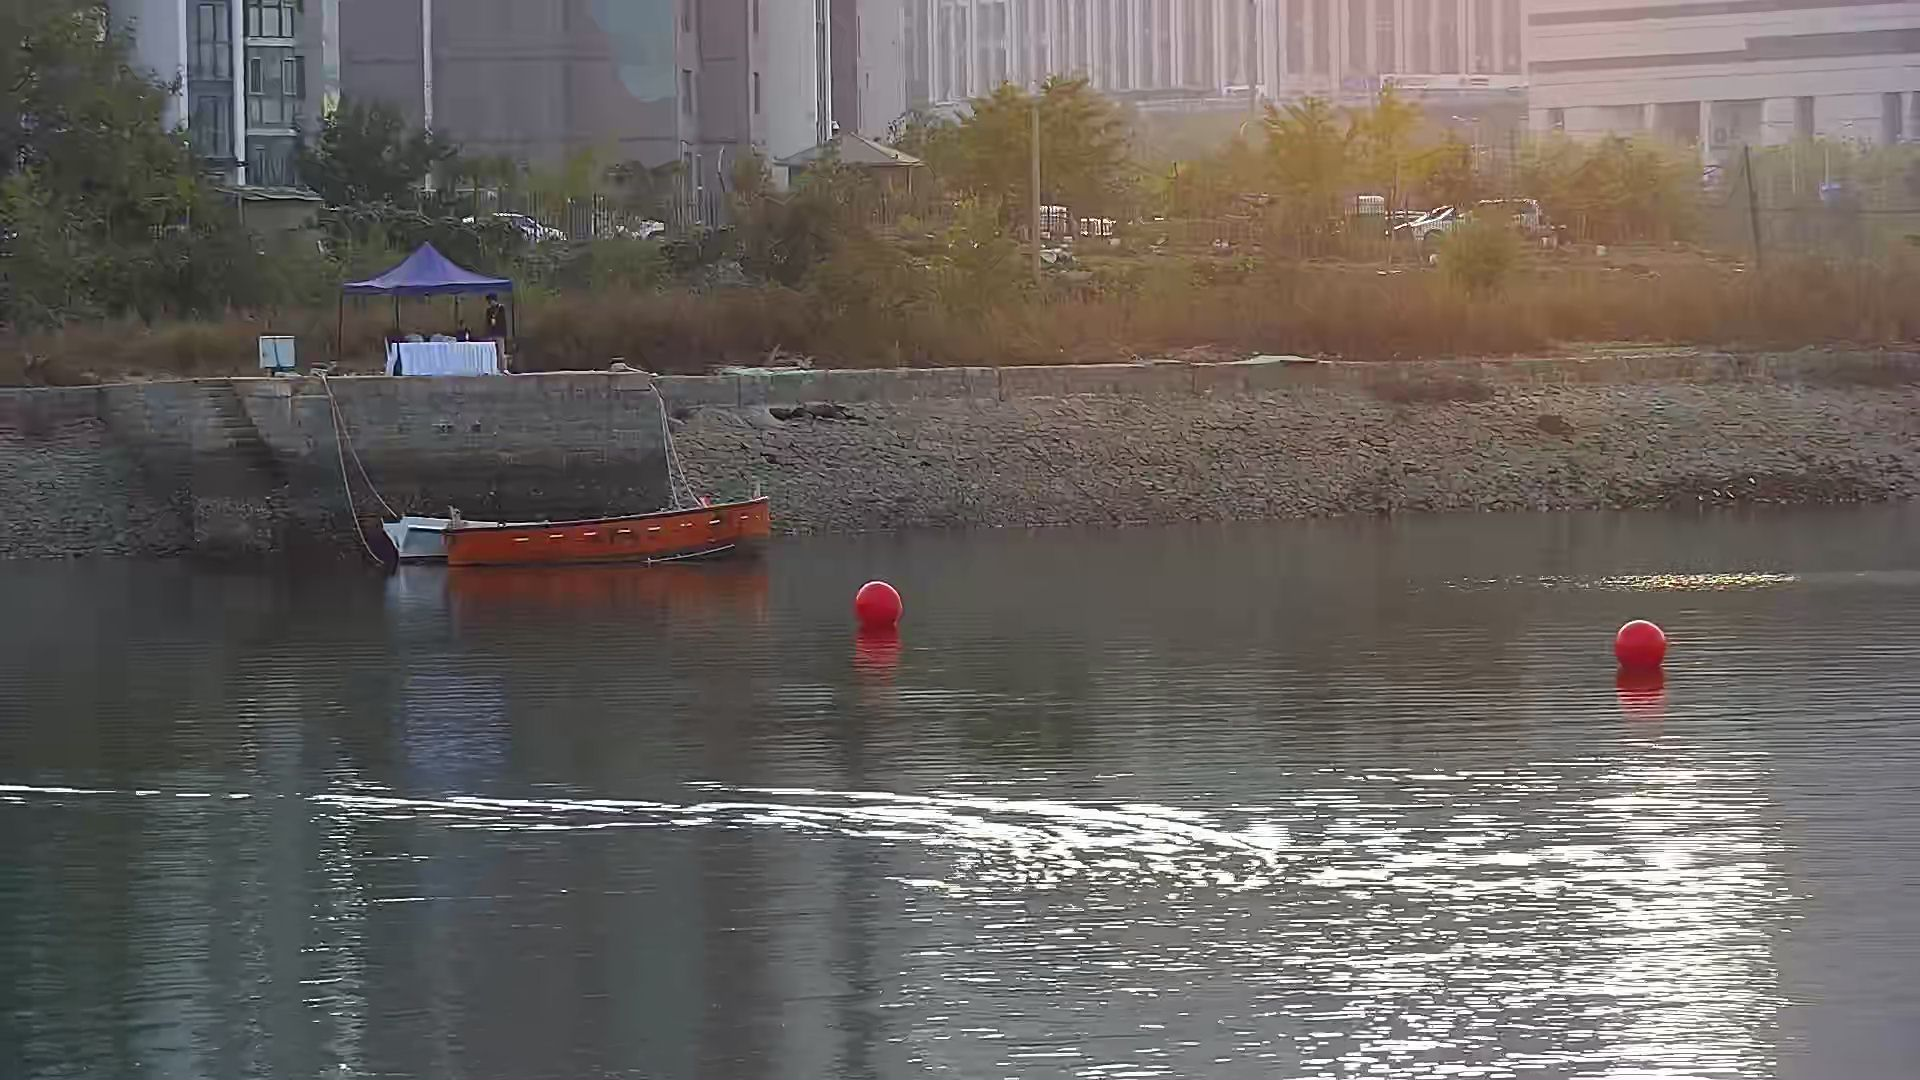ball: (1610, 622, 1677, 675), (855, 580, 909, 632)
boat: (442, 497, 771, 567)
